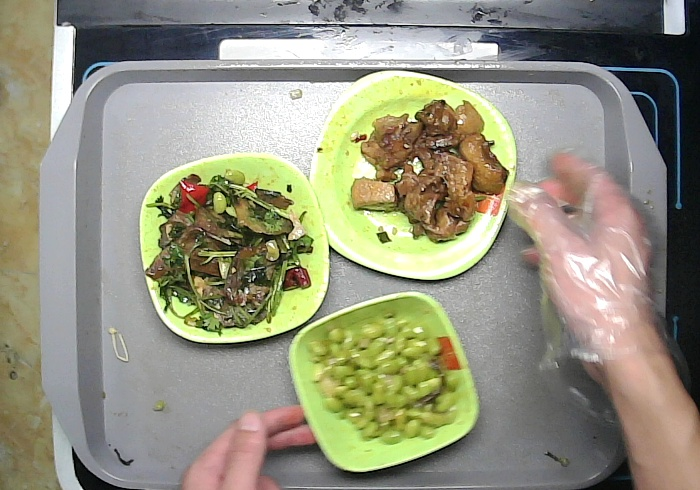SHKJ-Lv_Se_Cai_Die: (136, 151, 332, 348)
SHKJ-Lv_Se_Si_Fang_Cai_Die: (307, 68, 521, 286)
SHKJ-Lv_Se_Xiao_Fang_Die: (283, 288, 482, 477)
